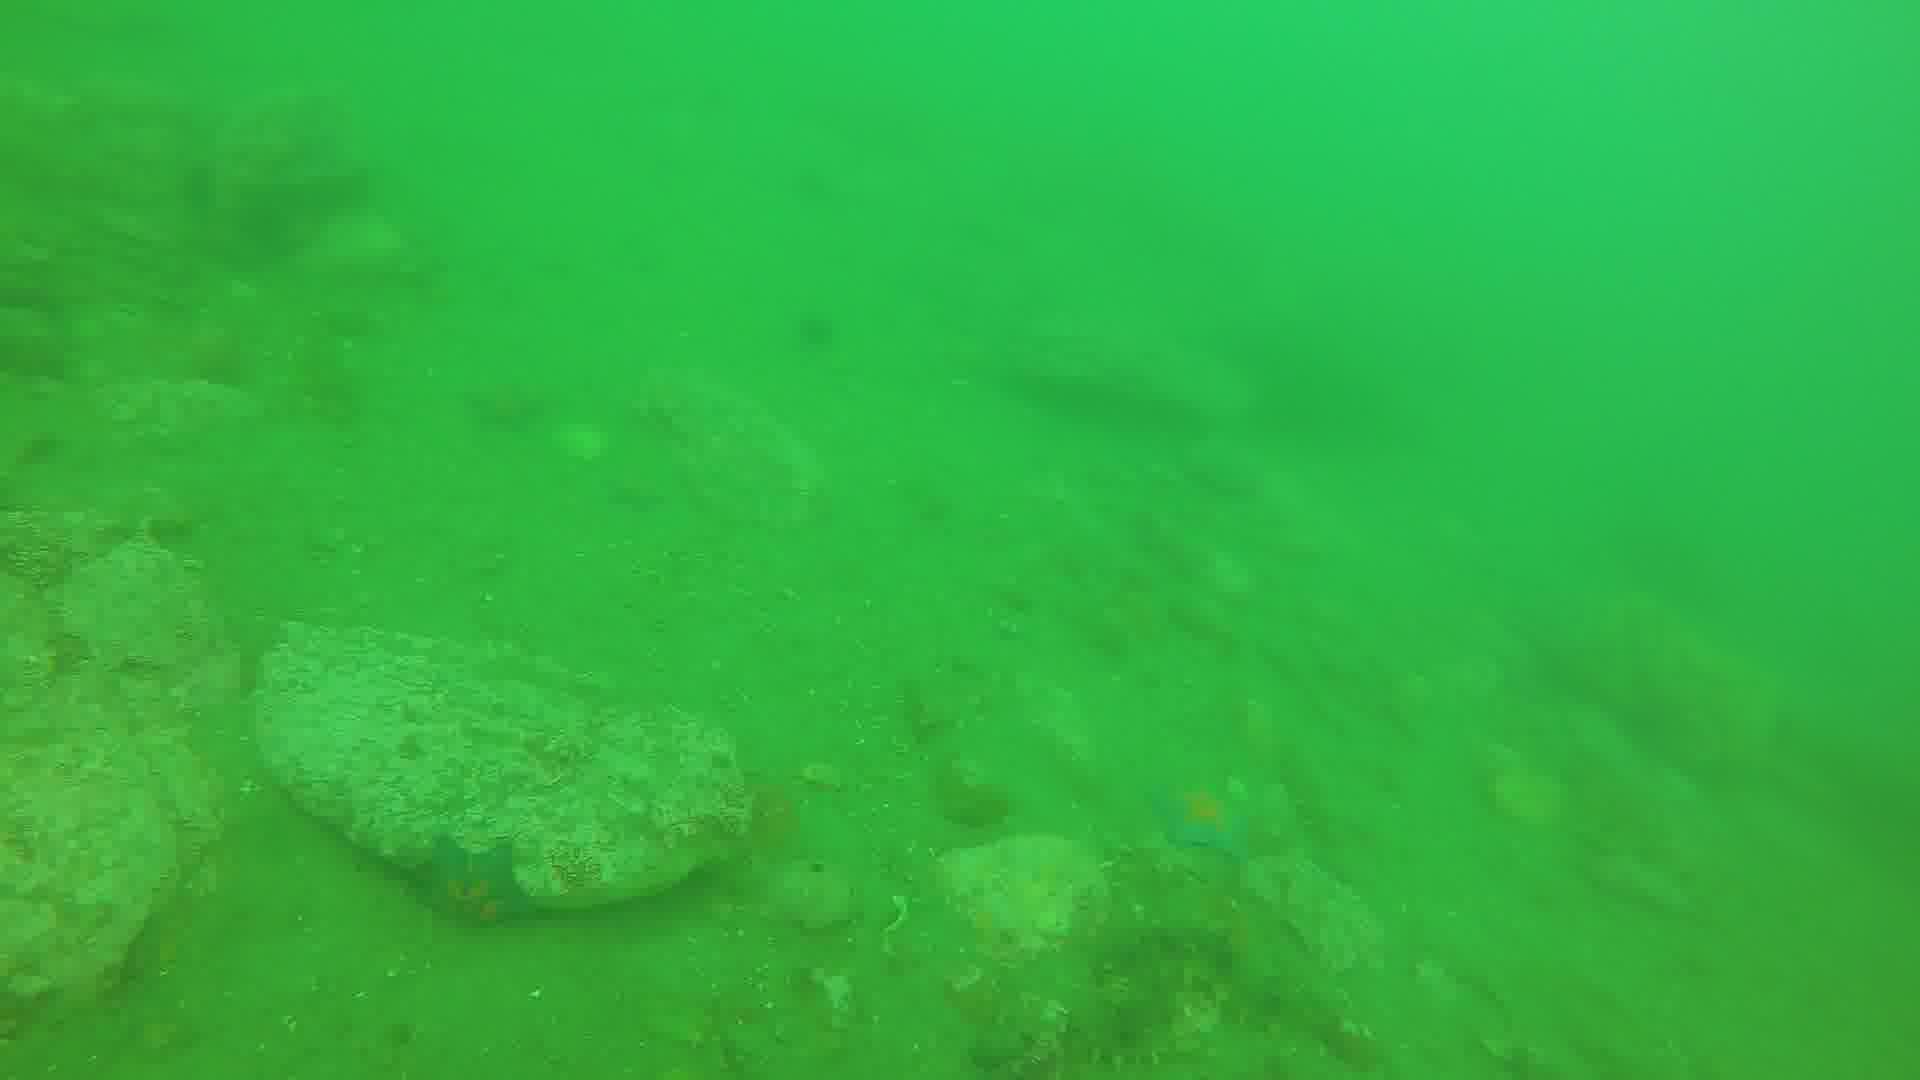echinus: (789, 309, 855, 367)
holothurian: (1072, 968, 1197, 1077)
starfish: (1156, 773, 1261, 865), (464, 375, 553, 434)
